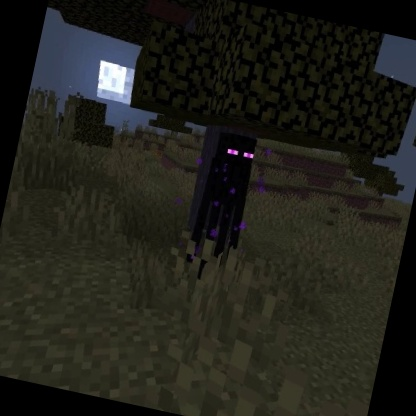enderman: (179, 126, 264, 288)
